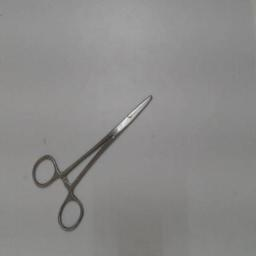Mayo Needle Holder: (29, 82, 163, 236)
